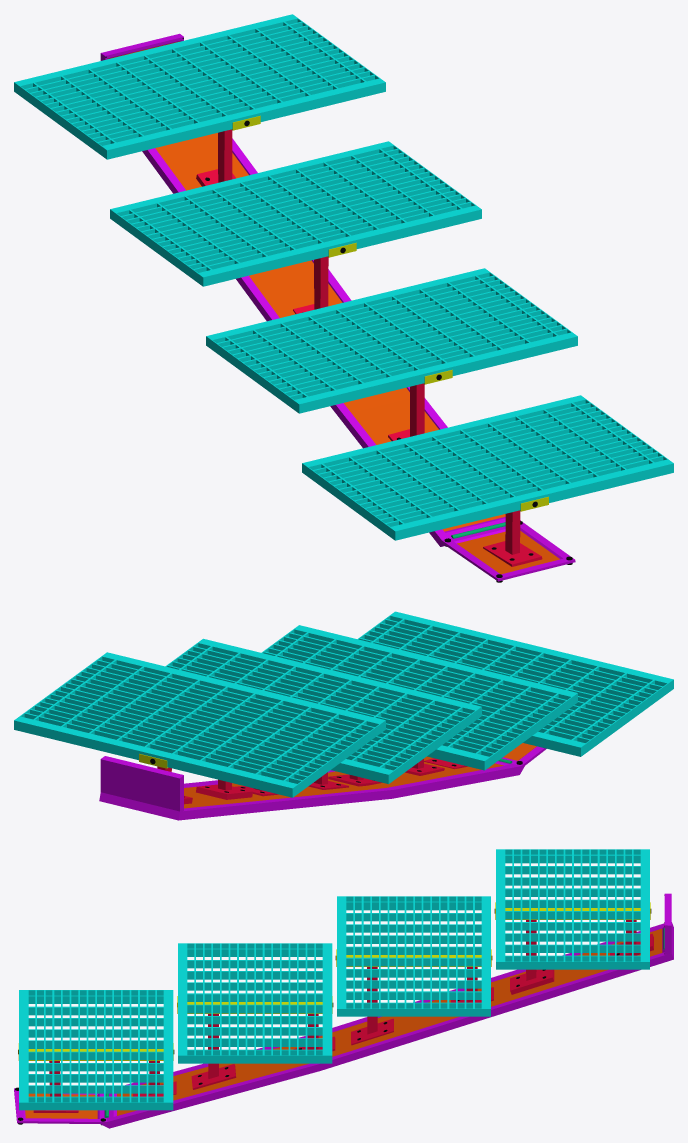
File: fbx_Corridor_Room_Stairs_v1.0.fbx
The picture shows the model from 3 angles, top to bottom: view 1: azimuth 30°, elevation 25°; view 2: azimuth 150°, elevation 25°; view 3: azimuth 270°, elevation 25°; orthographic projection. The views are drawn at different scales.
Parts seen in each view (by area): view 1: polySurface2818; view 2: polySurface2818; view 3: polySurface2818.
Part boxes in pixels (<box>): polySurface2818: <box>14,14,673,582</box>; polySurface2818: <box>14,611,673,820</box>; polySurface2818: <box>14,849,673,1128</box>.
Size of the model in its own units: 176 by 151 by 435.
